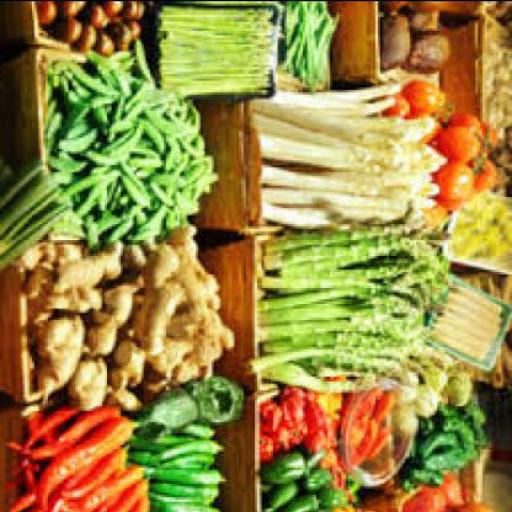biodegradable: (54, 59, 155, 175), (139, 96, 218, 224), (259, 119, 446, 173), (164, 5, 280, 89), (36, 416, 138, 510), (62, 148, 168, 236), (264, 224, 456, 266), (264, 157, 439, 200), (12, 402, 125, 456), (264, 275, 436, 310), (266, 211, 416, 251), (264, 310, 430, 344), (262, 291, 416, 326), (259, 93, 396, 132), (2, 173, 64, 259), (264, 264, 457, 291), (434, 283, 506, 355), (250, 344, 432, 371), (2, 198, 73, 266), (271, 198, 428, 228), (282, 1, 342, 75), (37, 311, 86, 394), (262, 330, 425, 352), (136, 382, 202, 435), (86, 114, 155, 162), (68, 440, 128, 494), (260, 136, 373, 164), (139, 280, 182, 353), (323, 164, 439, 190), (262, 182, 412, 202), (283, 253, 430, 273), (89, 116, 150, 164), (186, 373, 246, 421), (283, 87, 403, 111), (291, 76, 412, 98), (462, 200, 512, 250), (96, 460, 145, 510), (48, 460, 97, 510), (310, 18, 344, 89), (109, 332, 151, 389), (2, 158, 48, 209), (70, 353, 112, 408), (432, 122, 492, 160), (262, 364, 373, 384), (30, 402, 82, 444), (492, 25, 511, 134), (382, 7, 417, 66), (62, 161, 120, 196), (84, 241, 128, 287), (200, 304, 242, 352), (405, 28, 453, 70), (141, 241, 184, 287), (175, 225, 209, 282), (407, 80, 453, 122), (264, 441, 312, 481), (184, 266, 226, 310), (90, 202, 132, 244), (156, 436, 228, 460), (453, 111, 501, 146), (443, 412, 483, 454), (152, 334, 196, 371), (86, 305, 121, 350), (75, 57, 121, 91), (113, 473, 155, 510), (438, 157, 480, 194), (50, 282, 104, 310), (421, 424, 466, 456), (173, 300, 210, 338), (414, 1, 487, 20), (402, 482, 450, 510), (82, 170, 114, 212), (114, 278, 141, 326), (310, 392, 334, 446), (77, 476, 114, 510), (134, 448, 212, 464), (120, 168, 152, 207), (59, 237, 86, 282), (396, 114, 441, 141), (266, 478, 303, 510), (157, 466, 229, 482), (173, 350, 205, 385), (284, 382, 312, 422), (150, 100, 185, 132), (314, 14, 330, 82), (360, 416, 382, 464), (123, 80, 155, 112), (64, 98, 94, 132), (444, 466, 468, 508), (154, 496, 224, 510), (448, 366, 476, 401), (157, 480, 226, 494), (25, 264, 57, 294), (193, 332, 225, 362), (423, 355, 453, 387), (62, 128, 104, 150), (287, 25, 307, 71), (109, 216, 143, 243), (307, 0, 318, 82), (141, 121, 170, 150), (139, 34, 153, 94), (434, 189, 472, 211), (476, 154, 502, 186), (25, 239, 57, 264), (303, 357, 416, 364), (307, 462, 337, 488), (128, 437, 176, 453), (160, 428, 208, 444), (319, 425, 338, 465), (419, 384, 446, 412), (289, 487, 321, 510), (430, 196, 455, 225), (300, 445, 330, 469), (37, 409, 59, 441), (180, 421, 219, 439), (390, 91, 416, 118), (409, 462, 446, 480), (127, 242, 152, 268), (196, 166, 220, 193), (154, 490, 218, 500), (408, 7, 440, 27), (425, 453, 465, 469), (62, 14, 86, 40), (322, 483, 348, 507), (50, 109, 66, 148), (378, 392, 397, 424), (37, 291, 57, 321), (38, 2, 65, 24), (80, 23, 102, 50), (456, 496, 498, 510), (378, 421, 396, 453), (287, 1, 298, 52), (265, 401, 284, 430), (16, 488, 41, 510), (262, 430, 280, 460), (465, 400, 489, 422), (50, 89, 63, 128), (91, 2, 113, 24), (76, 100, 95, 125), (25, 464, 43, 490), (116, 18, 132, 46), (191, 98, 205, 130), (102, 176, 116, 208), (290, 419, 312, 439), (61, 1, 90, 16), (359, 414, 373, 444), (43, 66, 62, 88), (180, 166, 206, 182), (88, 94, 120, 107), (476, 414, 489, 444), (275, 421, 291, 445), (444, 399, 464, 418), (124, 1, 149, 16), (118, 43, 137, 62), (379, 1, 415, 11), (337, 459, 350, 485), (137, 492, 155, 510), (194, 132, 205, 160), (402, 473, 421, 489), (423, 414, 437, 435), (196, 150, 214, 166), (105, 30, 118, 52), (104, 1, 126, 11), (367, 394, 378, 412), (64, 496, 78, 510), (59, 59, 73, 73), (132, 18, 144, 34), (157, 100, 173, 112), (125, 59, 138, 73)
